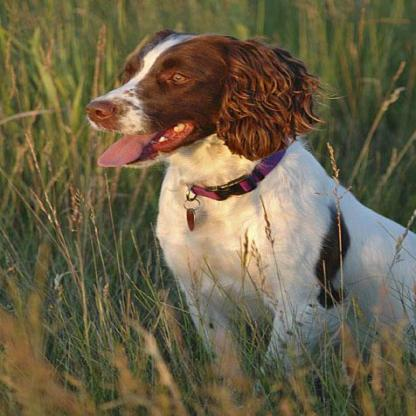English_setter: (82, 23, 411, 400)
